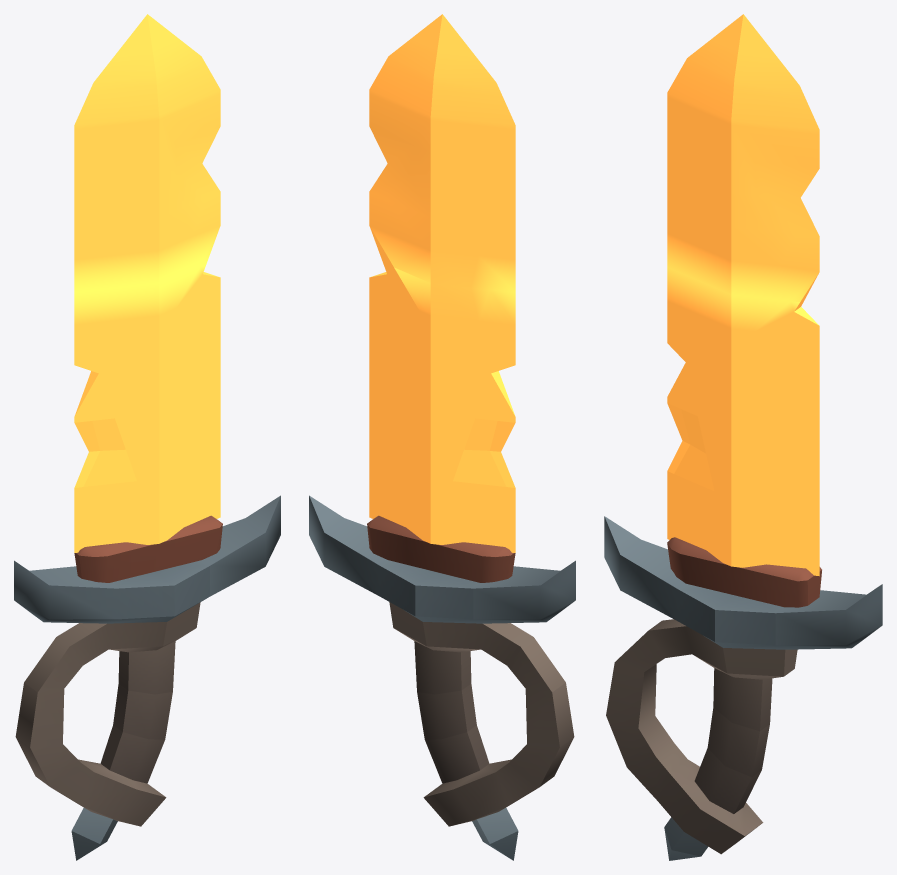
File: weapon_burn.glb
The picture shows the model from 3 angles, left to right: view 1: azimuth 30°, elevation 25°; view 2: azimuth 150°, elevation 25°; view 3: azimuth 330°, elevation 25°; orthographic projection. The views are drawn at different scales.
Visible parts, largest first — view 1: weapon_burn; view 2: weapon_burn; view 3: weapon_burn.
Boxes of the visible parts, box(x1,y1,x2,y2) form: weapon_burn: box(14, 14, 280, 860); weapon_burn: box(309, 14, 575, 860); weapon_burn: box(604, 14, 882, 860).
Size of the model in its own units: 0.6299 by 1.87 by 0.2223.
Materials: 2 (1 with a texture image).
